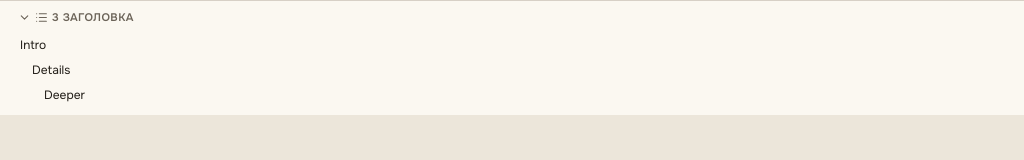
it: OutlineBar (EDIT-7) › шапка-твист сворачивает список
Expected: the button "Intro" is shown, [12,33,1012,57]
Click the button "3 заголовка": click(93, 17) [12,9,1012,25]
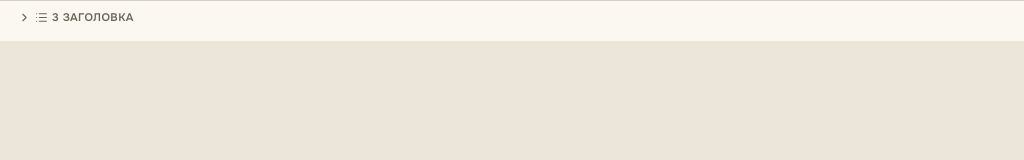
Expected: the button "Intro" is gone
